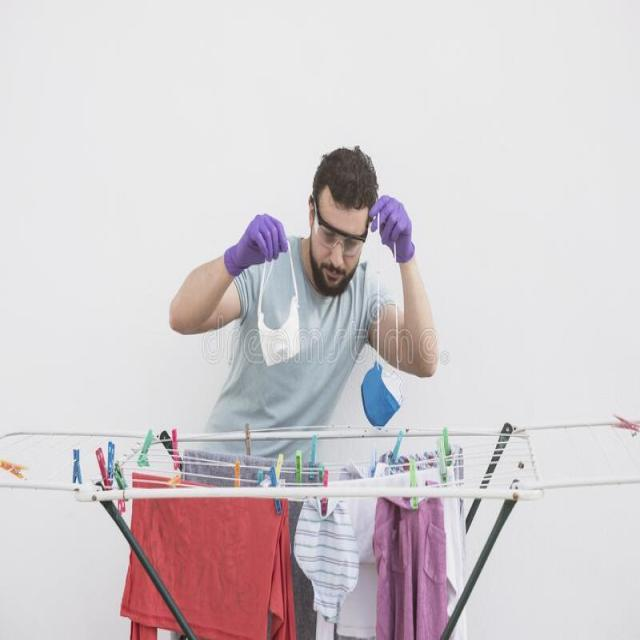clothes: (132, 511, 475, 633)
